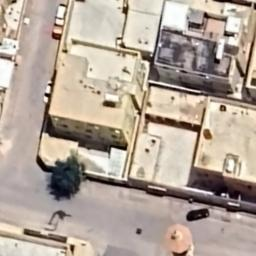sedan: (186, 208, 210, 222), (44, 80, 52, 102)
truck: (51, 4, 67, 40)
